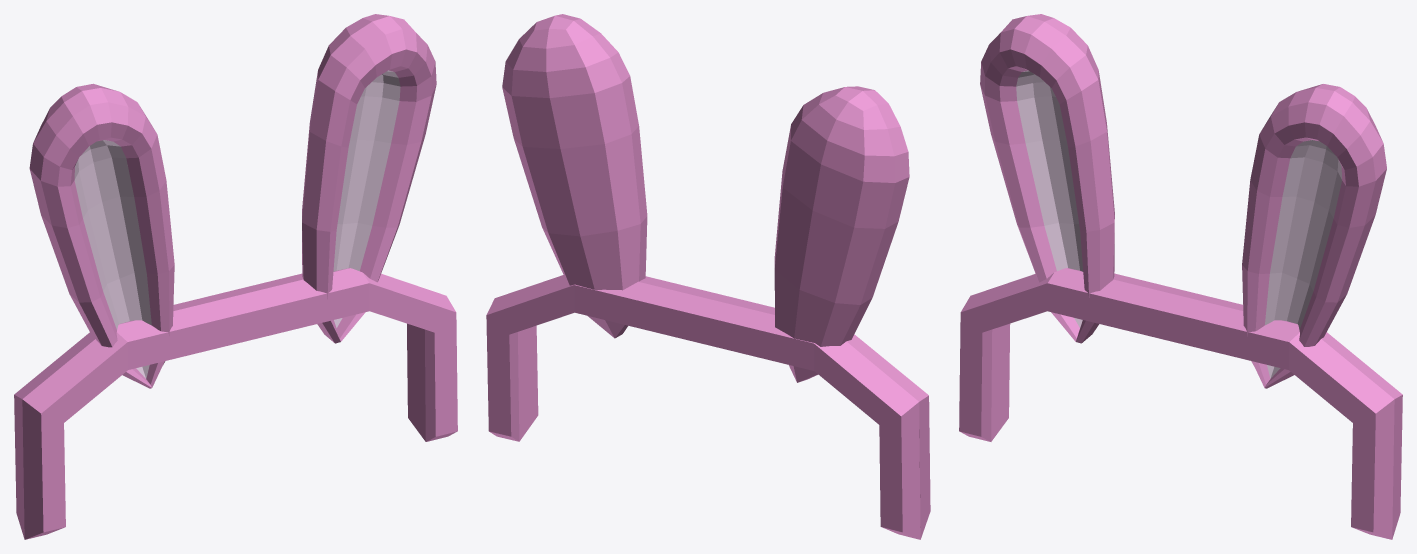
The model's file is bunny.glb.
The picture shows the model from 3 angles, left to right: view 1: azimuth 30°, elevation 25°; view 2: azimuth 150°, elevation 25°; view 3: azimuth 330°, elevation 25°; orthographic projection.
Visible parts, largest first — view 1: bunny, hairband; view 2: bunny, hairband; view 3: bunny, hairband.
Part boxes in pixels (x1,y1,x2,y2): bunny: (29, 14, 436, 388); hairband: (14, 268, 457, 539); bunny: (502, 14, 909, 382); hairband: (486, 275, 930, 539); bunny: (980, 14, 1386, 388); hairband: (959, 268, 1402, 539).
Bounding box in the file's own units: 0.9582 × 0.9386 × 0.1543.
